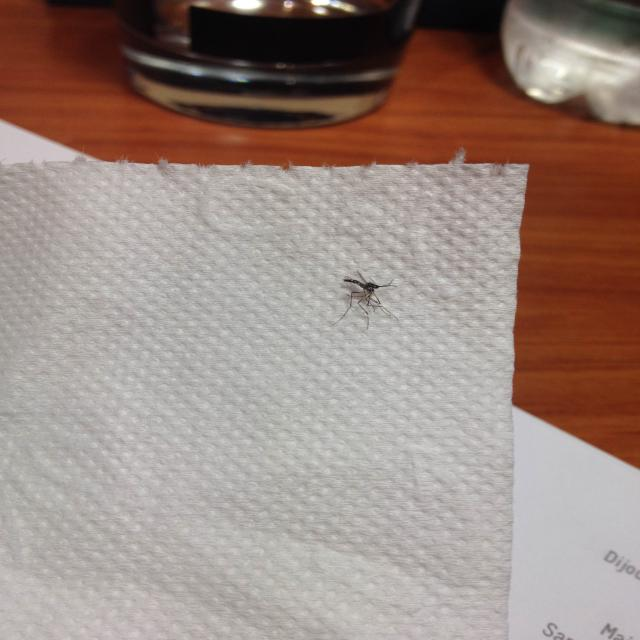albopictus: (330, 265, 407, 333)
